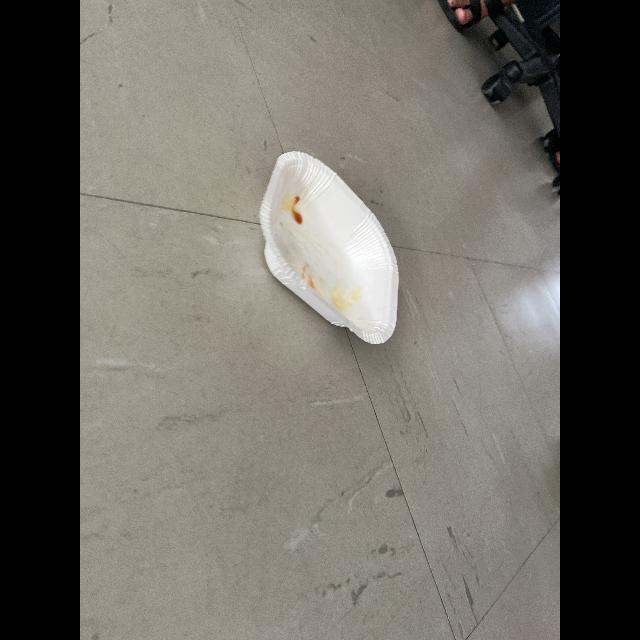cardboard_bowl: (248, 139, 424, 355)
